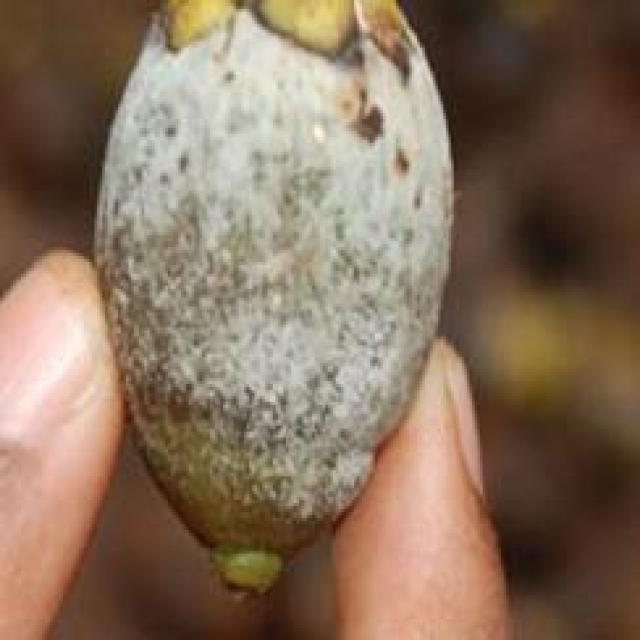damaged: (92, 0, 456, 601)
